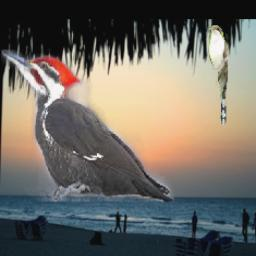Cuckoo: (208, 26, 228, 126)
Woodpecker: (2, 50, 175, 203)
